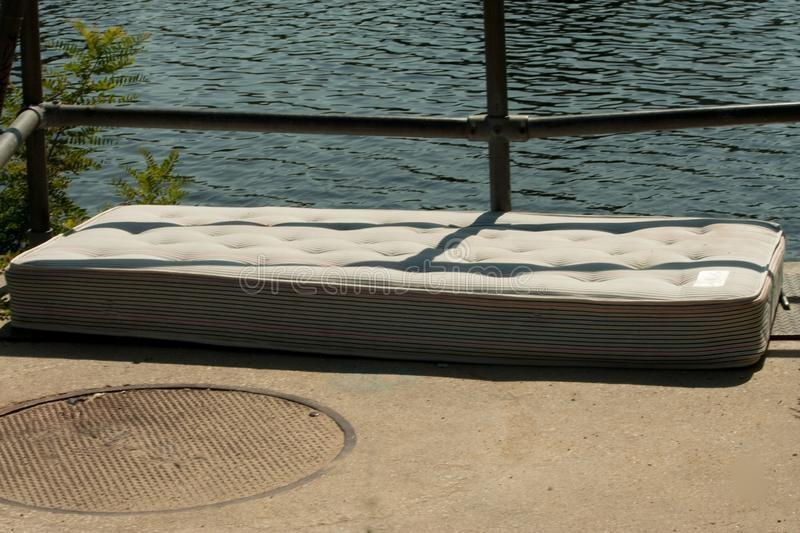Bed-Mattress: (0, 191, 789, 378)
